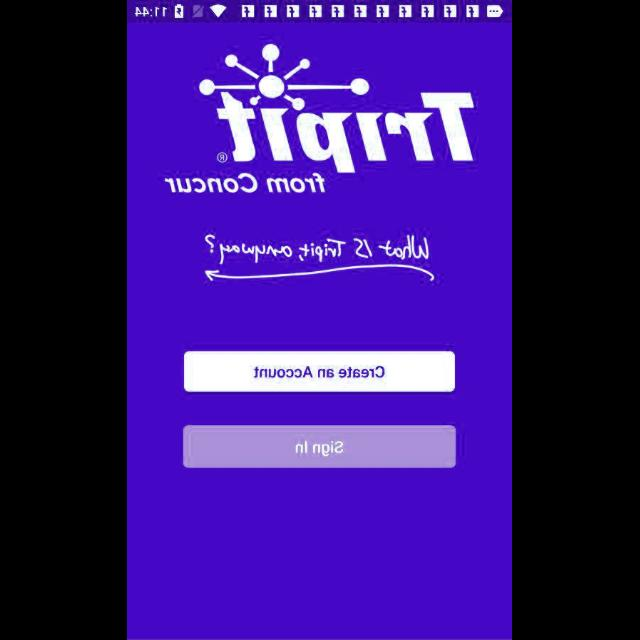image: (164, 44, 476, 192), (205, 234, 435, 282)
textbutton: (184, 426, 456, 468), (184, 352, 456, 392)
uppertaskbar: (128, 1, 512, 23)
